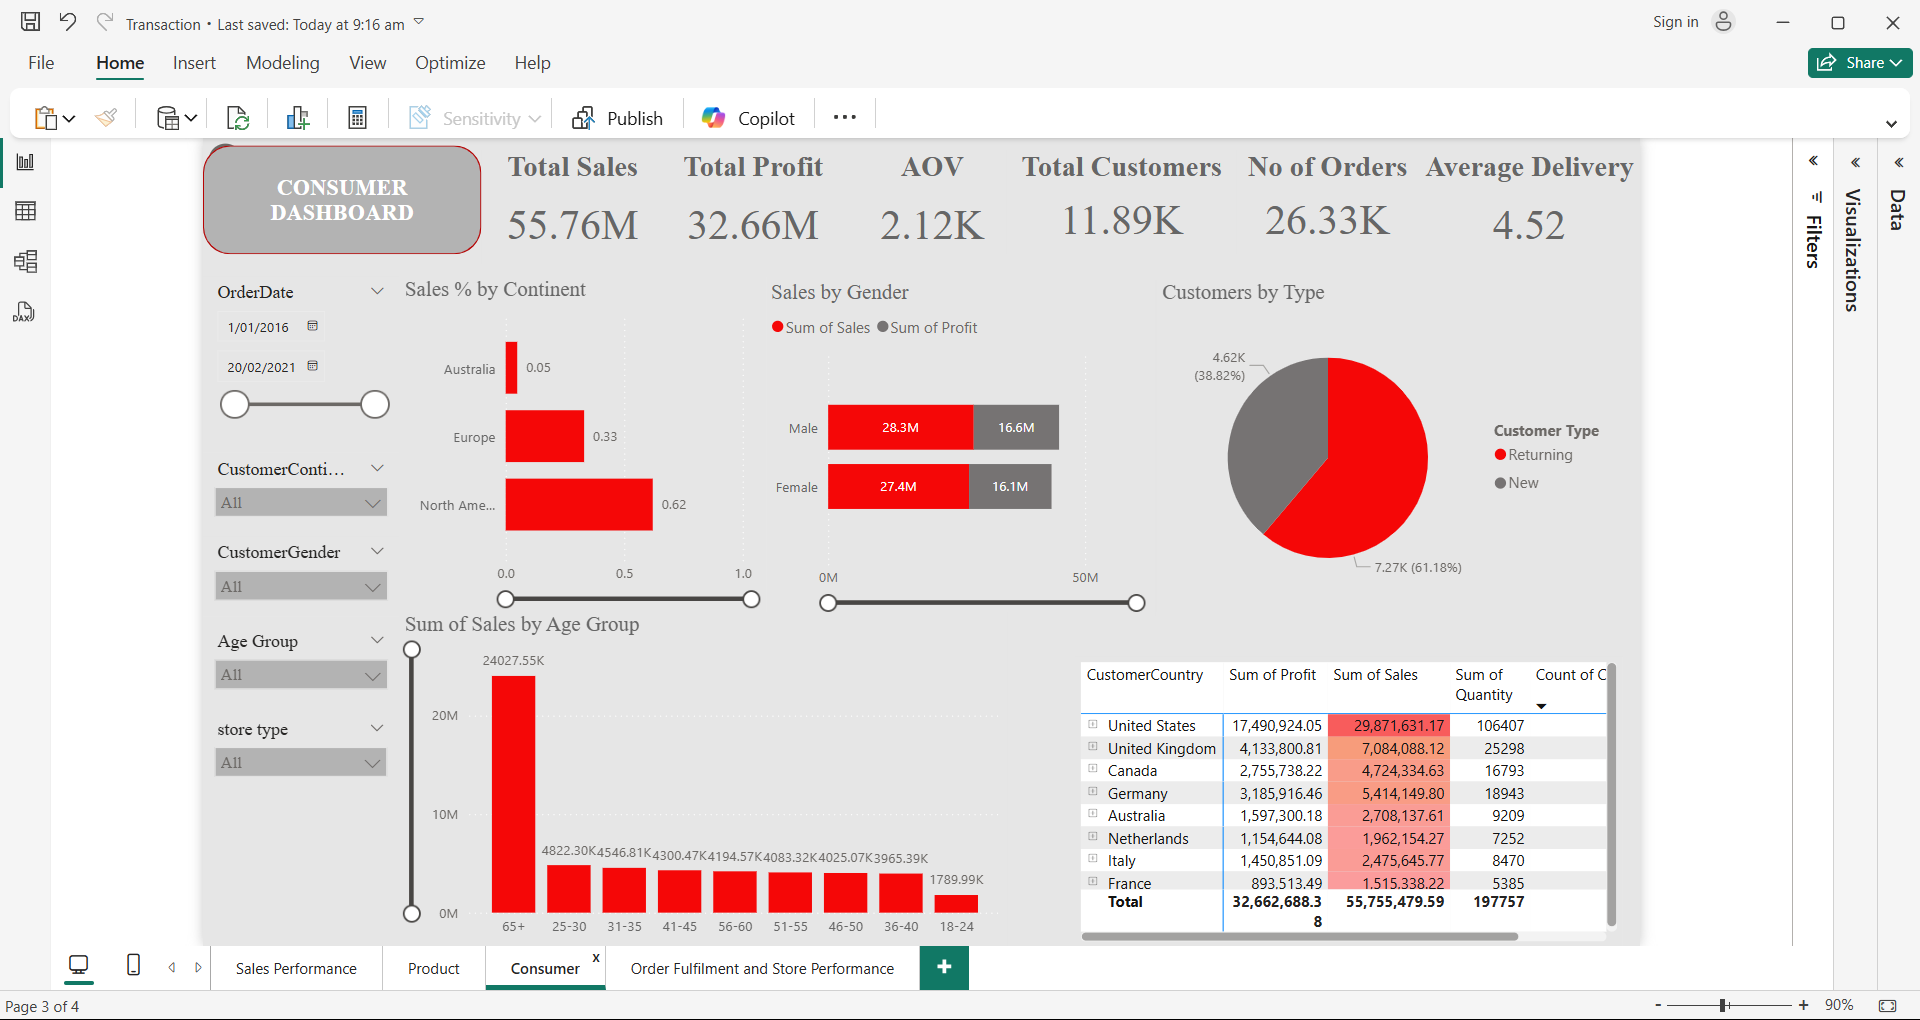

The page's visual inventory and layout, read from the dashboard file:
{"tool":"powerbi","page":{"name":"Consumer ","canvas":[1280,720],"ordinal":2},"visuals":[{"type":"barChart","title":" Sales by Gender","fields":{"Category":["Customers.CustomerGender"],"Y":["Sum(Transactions.Sales)","Sum(Transactions.Profit)"]},"box":[501.4,126.4,347.5,298.1],"z":0},{"type":"slicer","fields":{"Values":["Customers.CustomerContinent"]},"box":[0,379.1,174.5,75.6],"z":1000},{"type":"slicer","fields":{"Values":["Order.OrderDate"]},"box":[0,222.5,174.5,156.6],"z":2000},{"type":"actionButton","box":[0,0,100,40],"z":3000},{"type":"pivotTable","fields":{"Rows":["Customers.CustomerCountry","Customers.CustomerState","Customers.CustomerCity"],"Values":["Sum(Transactions.Profit)","Sum(Transactions.Sales)","Sum(Transactions.Quantity)","CountNonNull(Customers.CustomerID)"]},"box":[777.1,461.4,487.1,258.6],"z":4000},{"type":"clusteredColumnChart","fields":{"Category":["Customers.Age Group"],"Y":["Sum(Transactions.Sales)"]},"box":[219.8,421.7,541.2,298.1],"z":5000},{"type":"slicer","fields":{"Values":["Customers.Age Group"]},"box":[0,533,174.5,78.3],"z":6000},{"type":"slicer","fields":{"Values":["Customers.CustomerGender"]},"box":[0,454.7,174.5,71.4],"z":7000},{"type":"card","title":"AOV","fields":{"Values":["Customers.AOV"]},"box":[570.1,0,158,112.6],"z":8000},{"type":"card","title":"Total Customers","fields":{"Values":["Count(Order.CustomerID)"]},"box":[715.7,0,204.7,116.8],"z":9000},{"type":"card","title":"Average Delivery","fields":{"Values":["OrderTable.OrderProcessingTime"]},"box":[1082.5,0,197.8,116.8],"z":10000},{"type":"card","title":"No of Orders","fields":{"Values":["Count(Order.OrderNumber)"]},"box":[920.4,0,162.1,116.8],"z":11000},{"type":"card","title":"Total Sales","fields":{"Values":["Transactions.Total_Sales"]},"box":[247.3,0,162.1,112.6],"z":12000},{"type":"card","title":"Total Profit","fields":{"Values":["Transactions.Total_Profit"]},"box":[409.4,0,160.7,112.6],"z":13000},{"type":"barChart","title":"Sales % by Continent","fields":{"Category":["Customers.CustomerContinent"],"Y":["Customers.Sales % by Continent"]},"box":[174.5,123.6,326.9,298.1],"z":14000},{"type":"slicer","fields":{"Values":["Stores.store type"]},"box":[0,142.9,174.5,79.7],"z":15000},{"type":"pieChart","title":"Customers by Type","fields":{"Category":["OrderTable.Cust_type"],"Y":["Count(OrderTable.CustomerID)"]},"box":[848.9,126.4,416.2,295.3],"z":16000}]}

Visuals, with their boxes on the page's 1280x720 design canvas (x1, y1, x2, y2). These are canvas units, not pixel positions in the 1920x1020 screenshot, which may show the page scaled, cropped or inside an application window:
" Sales by Gender" barChart: rect(501, 126, 849, 424)
slicer - Customers.CustomerContinent: rect(0, 379, 174, 455)
slicer - Order.OrderDate: rect(0, 222, 174, 379)
actionButton: rect(0, 0, 100, 40)
pivotTable - Customers.CustomerCountry x Customers.CustomerState: rect(777, 461, 1264, 720)
clusteredColumnChart - Customers.Age Group x Sum(Transactions.Sales): rect(220, 422, 761, 720)
slicer - Customers.Age Group: rect(0, 533, 174, 611)
slicer - Customers.CustomerGender: rect(0, 455, 174, 526)
"AOV" card: rect(570, 0, 728, 113)
"Total Customers" card: rect(716, 0, 920, 117)
"Average Delivery" card: rect(1082, 0, 1280, 117)
"No of Orders" card: rect(920, 0, 1082, 117)
"Total Sales" card: rect(247, 0, 409, 113)
"Total Profit" card: rect(409, 0, 570, 113)
"Sales % by Continent" barChart: rect(174, 124, 501, 422)
slicer - Stores.store type: rect(0, 143, 174, 223)
"Customers by Type" pieChart: rect(849, 126, 1265, 422)
